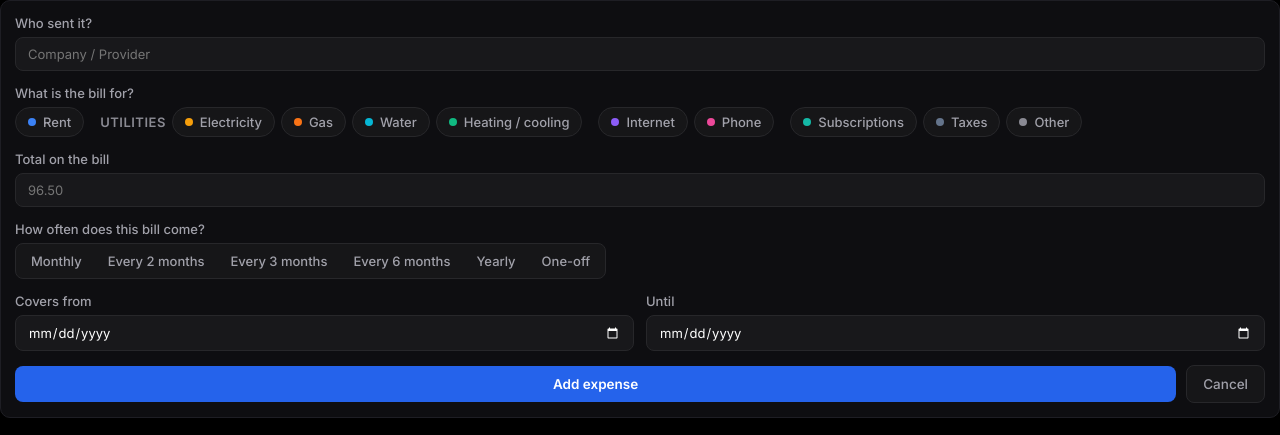
Scenario: BillEditor for a new bill › fills the dates, ending today, when a cadence is picked first
Click the radio button labelled "Every 2 months" at (156, 261), box 108,253 -> 204,269
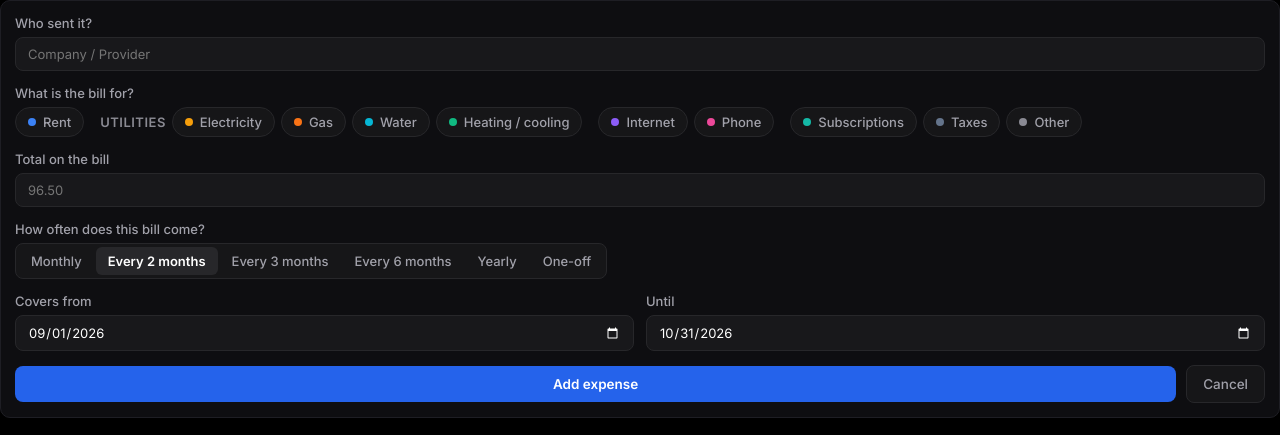
Expected: the date field labelled "Covers from" holds "2026-09-01", 15,315 -> 634,351
Expected: the date field labelled "Until" holds "2026-10-31", 646,315 -> 1265,351
